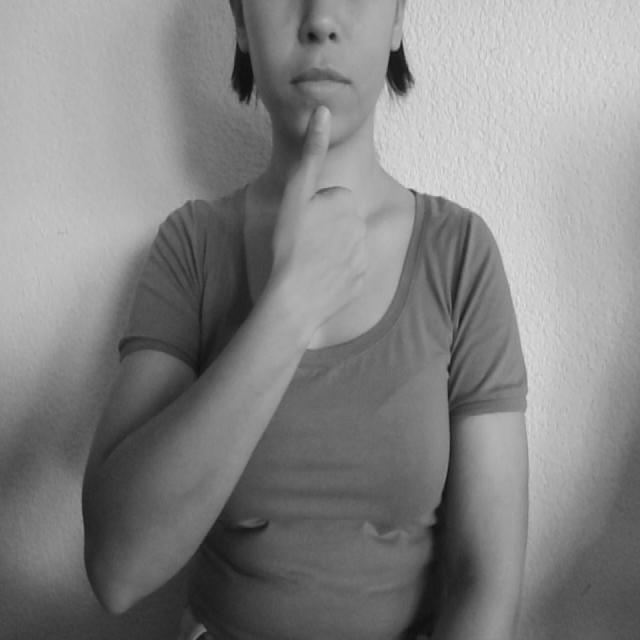Baba: (288, 52, 364, 170)
